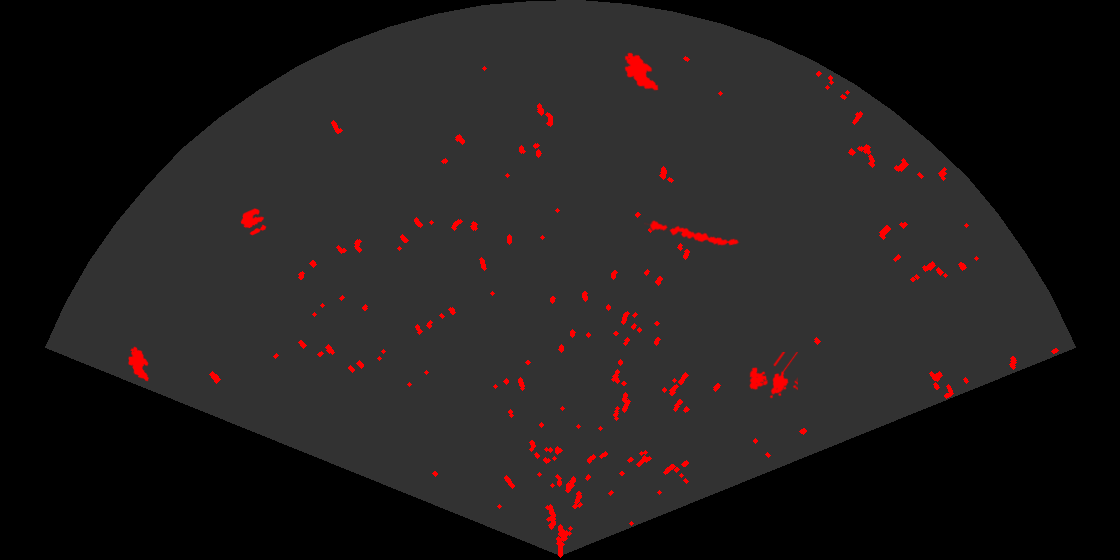AUV: (623, 51, 660, 92), (126, 345, 151, 383)
ball: (239, 207, 268, 237)
cage: (748, 352, 798, 400)
chain: (644, 219, 741, 247)
